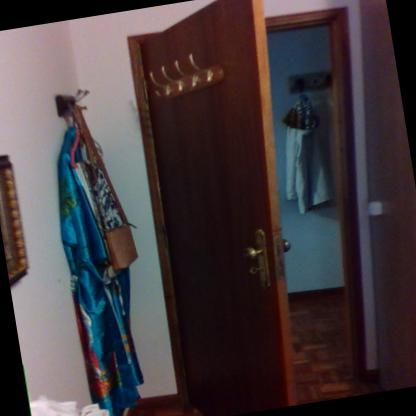semi: (114, 0, 409, 415)
